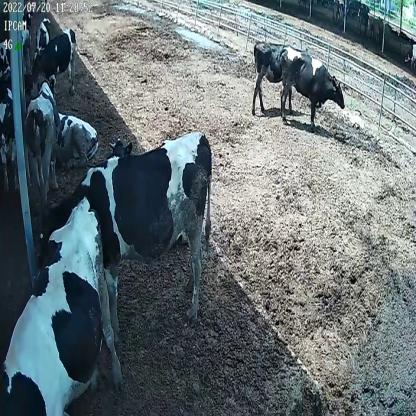cow: (33, 132, 215, 324), (279, 45, 346, 130), (246, 38, 307, 113), (23, 79, 58, 205), (27, 27, 78, 99), (34, 14, 53, 54)
